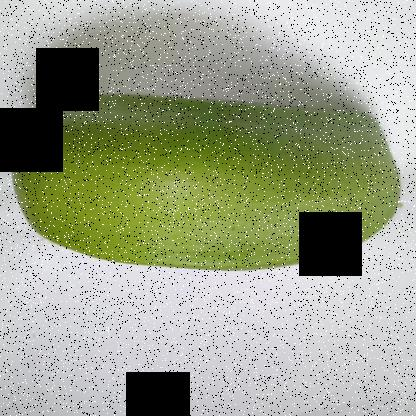freshunripe: (5, 73, 415, 284)
